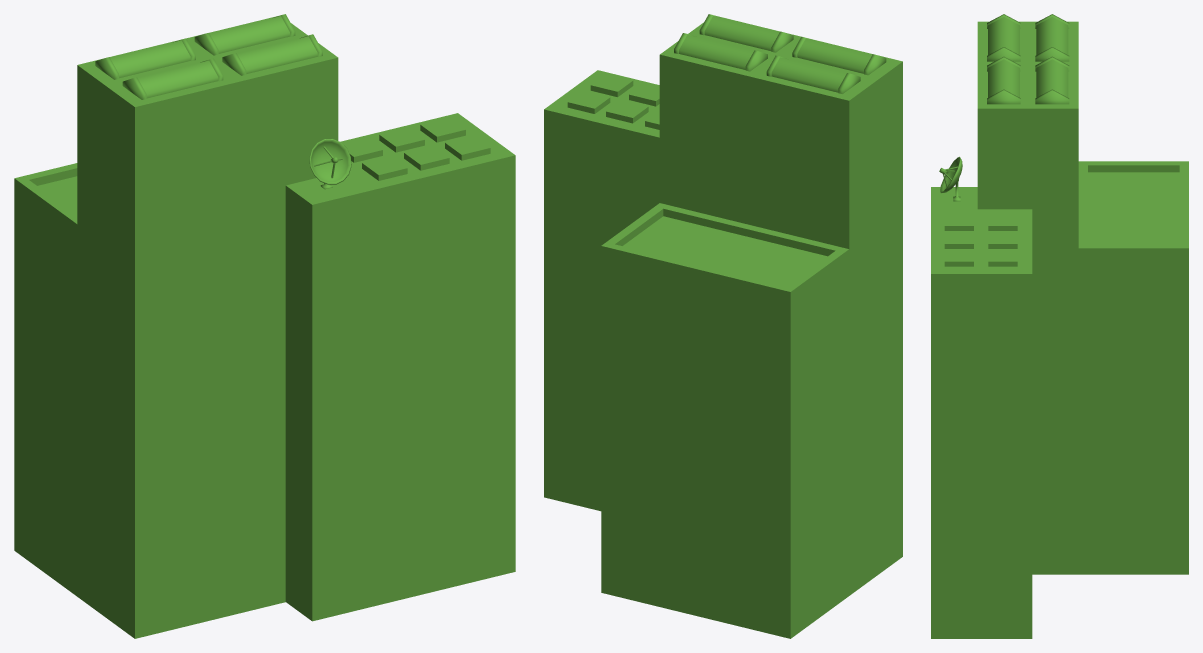
Rendered from Building6_green.fbx.
3 views of the same model, side by side, from view 1: azimuth 30°, elevation 25°; view 2: azimuth 150°, elevation 25°; view 3: azimuth 270°, elevation 25° (orthographic). The views are drawn at different scales.
Visible parts, largest first — view 1: Building 6; view 2: Building 6; view 3: Building 6.
Boxes of the visible parts, x1,y1,x2,y2 form: Building 6: (14,14,515,638); Building 6: (544,14,902,638); Building 6: (931,14,1188,638).
Bounding box in the file's own units: 2932 × 4323 × 2109.
Materials: 1 (1 with a texture image).
